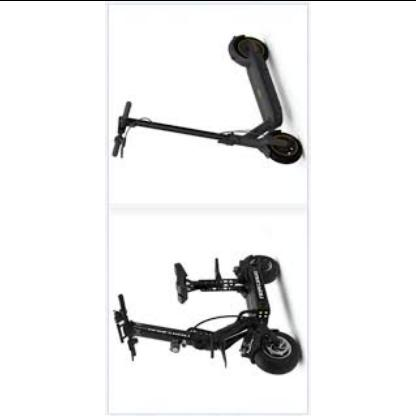bike: (113, 255, 302, 376)
